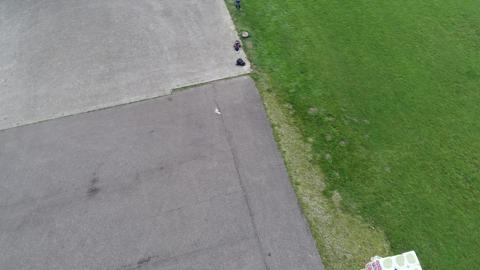RockwoolPallet: (364, 249, 423, 270)
